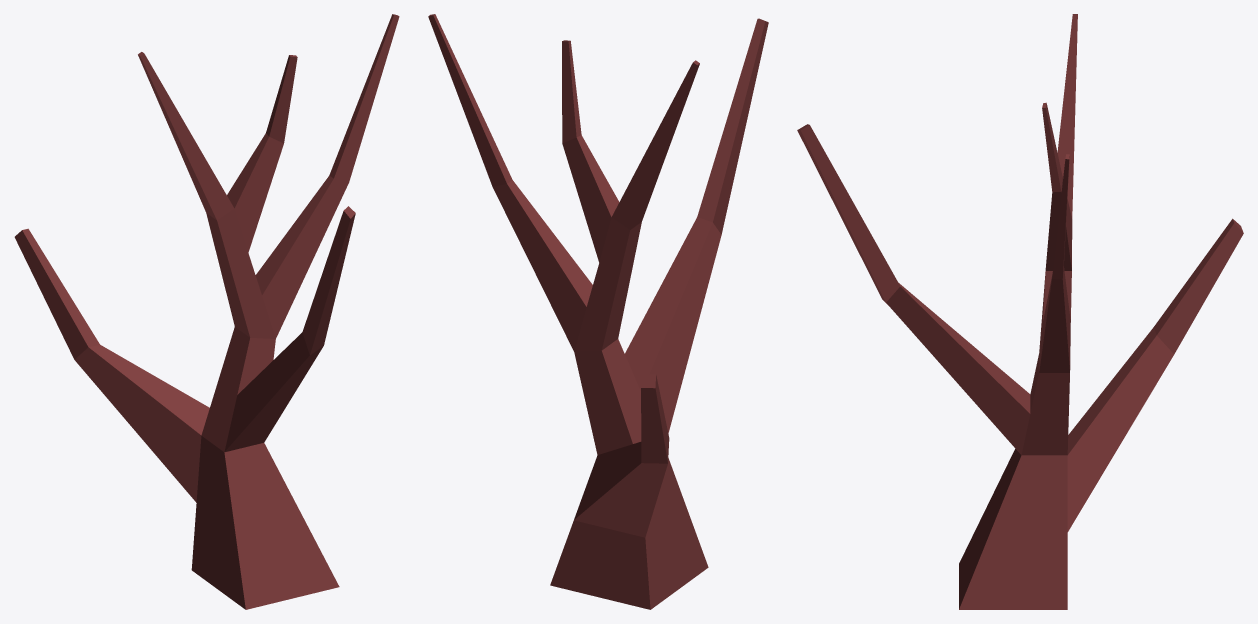
The model's file is BushAutumn2.fbx.
3 renders of one model, left to right at view 1: azimuth 30°, elevation 25°; view 2: azimuth 150°, elevation 25°; view 3: azimuth 270°, elevation 25°, orthographic. The views are drawn at different scales.
Parts seen in each view (by area): view 1: BushAutumn2; view 2: BushAutumn2; view 3: BushAutumn2.
Part boxes in pixels (x1=…): BushAutumn2: x1=14, y1=14, x2=399, y2=609; BushAutumn2: x1=428, y1=14, x2=768, y2=609; BushAutumn2: x1=797, y1=14, x2=1243, y2=609.
Size of the model in its own units: 0.3067 by 0.5177 by 0.397.
